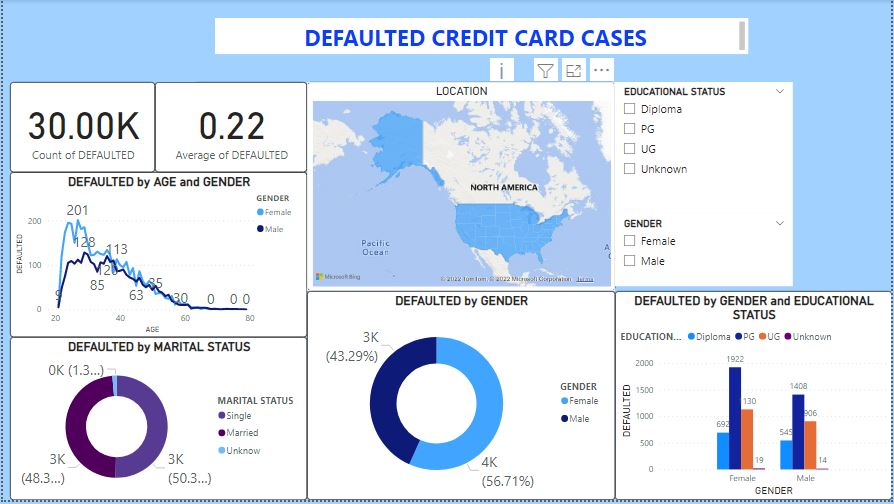

This screenshot's page, from the dashboard's own definition file:
{"tool":"powerbi","page":{"name":"Page 1","canvas":[1280,720],"ordinal":0},"visuals":[{"type":"lineChart","fields":{"Category":["Data.AGE"],"Y":["Sum(Data.DEFAULTED)"],"Series":["Data.GENDER"]},"box":[10.1,247.7,427.7,237.6],"z":0},{"type":"donutChart","fields":{"Category":["Data.MARITAL STATUS"],"Y":["Sum(Data.DEFAULTED)"]},"box":[10.1,485.3,427.7,234.7],"z":1000},{"type":"card","fields":{"Values":["CountNonNull(Data.DEFAULTED)"]},"box":[10.1,118.1,208.8,129.6],"z":1002},{"type":"card","fields":{"Values":["Avg(Data.DEFAULTED)"]},"box":[218.9,118.1,218.9,129.6],"z":1003},{"type":"textbox","box":[305.3,25.9,767.5,51.8],"z":1004},{"type":"filledMap","fields":{"Category":["Data.North Carolina"]},"box":[437.8,118.1,443.5,301],"z":1005},{"type":"donutChart","fields":{"Y":["Sum(Data.DEFAULTED)"],"Category":["Data.GENDER"]},"box":[437.8,419,443.5,301],"z":1006},{"type":"clusteredColumnChart","fields":{"Category":["Data.GENDER"],"Y":["Sum(Data.DEFAULTED)"],"Series":["Data.EDUCATIONAL STATUS"]},"box":[881.3,419,398.9,301],"z":1007},{"type":"slicer","fields":{"Values":["Data.EDUCATIONAL STATUS"]},"box":[881.3,118.1,256.3,190.1],"z":1008},{"type":"slicer","fields":{"Values":["Data.GENDER"]},"box":[881.3,308.2,256.3,103.7],"z":1009}]}

Visuals, with their boxes in screenshot pixels (x1, y1, x2, y2), scaled from the page's 1280x720 canvas onto the 894x504 screenshot:
lineChart - Data.AGE x Sum(Data.DEFAULTED): rect(7, 173, 306, 340)
donutChart - Data.MARITAL STATUS x Sum(Data.DEFAULTED): rect(7, 340, 306, 503)
card - CountNonNull(Data.DEFAULTED): rect(7, 83, 153, 173)
card - Avg(Data.DEFAULTED): rect(153, 83, 306, 173)
textbox: rect(213, 18, 749, 54)
filledMap - Data.North Carolina: rect(306, 83, 616, 293)
donutChart - Sum(Data.DEFAULTED) x Data.GENDER: rect(306, 293, 616, 503)
clusteredColumnChart - Data.GENDER x Sum(Data.DEFAULTED): rect(616, 293, 893, 503)
slicer - Data.EDUCATIONAL STATUS: rect(616, 83, 795, 216)
slicer - Data.GENDER: rect(616, 216, 795, 288)
